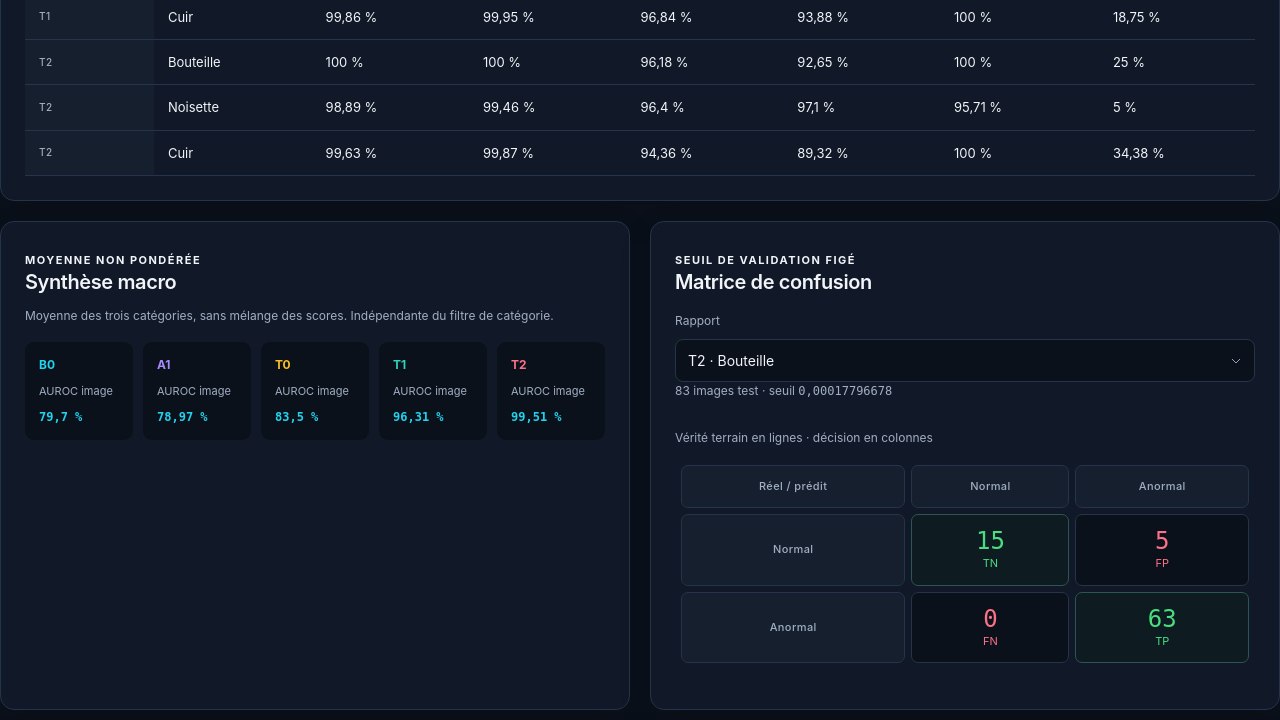
Scenario: official model analytics › selects the official confusion matrix and preserves its calibrated threshold
The image size is (1280, 720).
(page scrolled)
Select "B0 · Bouteille" in the dropdown named "Rapport de matrice de confusion" at (965, 361), box left=675, top=339, right=1255, bottom=382
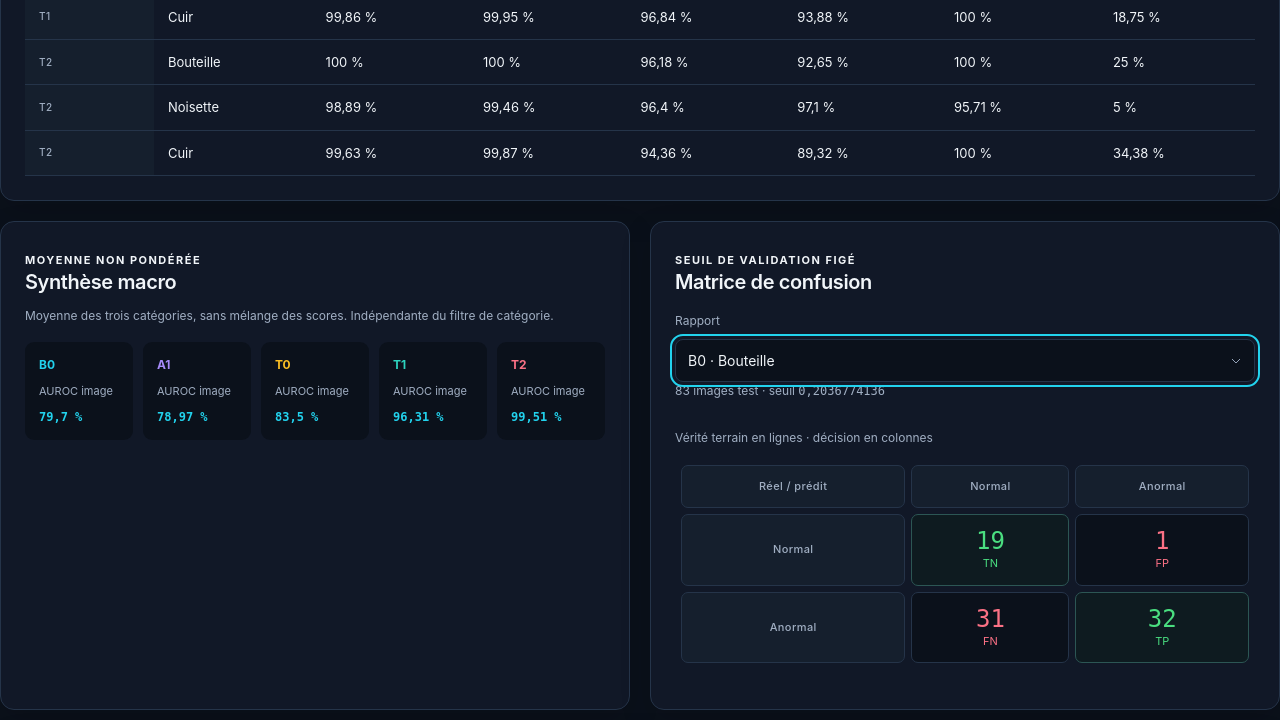
expect the text "32" is shown: met, box left=1148, top=604, right=1177, bottom=632
expect the text "31" is shown: met, box left=976, top=604, right=1005, bottom=632
